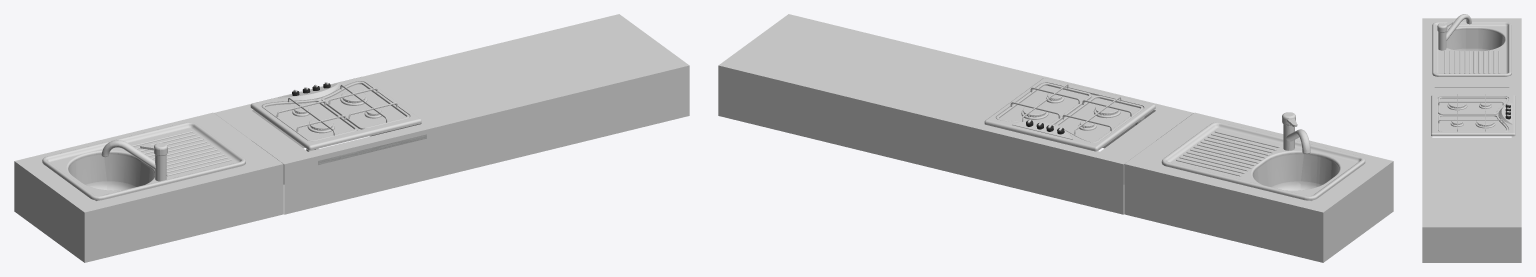
File: cuisine3.FBX
The picture shows the model from 3 angles, left to right: view 1: azimuth 30°, elevation 25°; view 2: azimuth 150°, elevation 25°; view 3: azimuth 270°, elevation 25°; orthographic projection. The views are drawn at different scales.
Visible parts, largest first — view 1: _DGeom_432, _DGeom_50, _DGeom_282, _DGeom_6, _DGeom_300, _DGeom_301, _DGeom_298, _DGeom_37, _DGeom_26, _DGeom_320; view 2: _DGeom_432, _DGeom_50, _DGeom_282, _DGeom_6, _DGeom_300, _DGeom_298, _DGeom_301; view 3: _DGeom_432, _DGeom_282, _DGeom_50, _DGeom_6, _DGeom_300, _DGeom_298, _DGeom_301, _DGeom_320, _DGeom_115, _DGeom_57, _DGeom_308, _DGeom_251.
Boxes of the visible parts, x1,y1,x2,y2 form: _DGeom_432: (214,14,689,214); _DGeom_50: (14,112,283,262); _DGeom_282: (42,122,245,200); _DGeom_6: (250,76,421,150); _DGeom_300: (101,140,167,181); _DGeom_301: (321,81,409,129); _DGeom_298: (262,99,357,141); _DGeom_37: (318,134,426,164); _DGeom_26: (101,186,214,217); _DGeom_320: (277,83,339,100); _DGeom_432: (718,14,1193,214); _DGeom_50: (1124,112,1393,262); _DGeom_282: (1161,122,1365,200); _DGeom_6: (984,78,1155,151); _DGeom_300: (1282,112,1310,153); _DGeom_298: (1055,95,1143,142); _DGeom_301: (996,83,1091,124); _DGeom_432: (1422,87,1521,262); _DGeom_282: (1432,22,1511,76); _DGeom_50: (1422,18,1521,87); _DGeom_6: (1431,95,1515,136); _DGeom_300: (1437,14,1471,50); _DGeom_298: (1438,96,1508,114); _DGeom_301: (1438,114,1508,131); _DGeom_320: (1498,103,1512,124); _DGeom_115: (1438,101,1503,105); _DGeom_57: (1438,119,1503,123); _DGeom_308: (1476,117,1494,125); _DGeom_251: (1448,99,1466,107).
Bounding box in the file's own units: 4942 × 677 × 995.
Materials: 2 (2 with a texture image).
